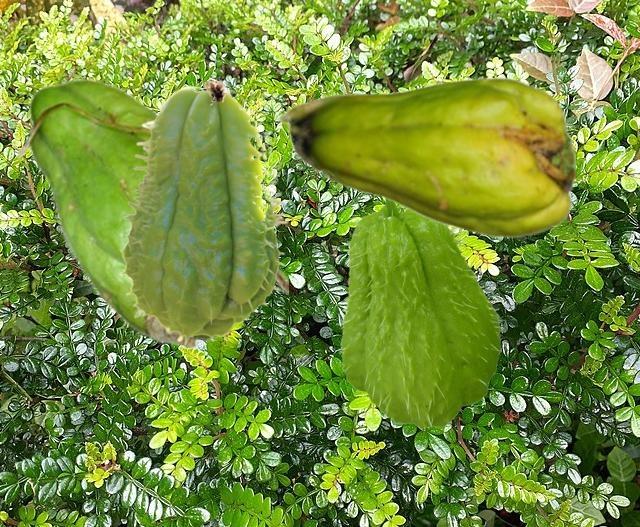sayote: (15, 77, 287, 349), (276, 76, 574, 238), (118, 79, 287, 345), (335, 200, 505, 428)
